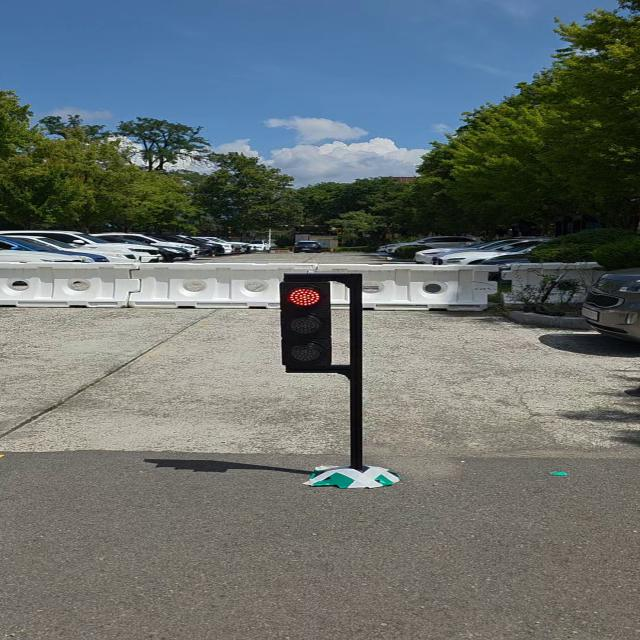red: (272, 276, 351, 375)
